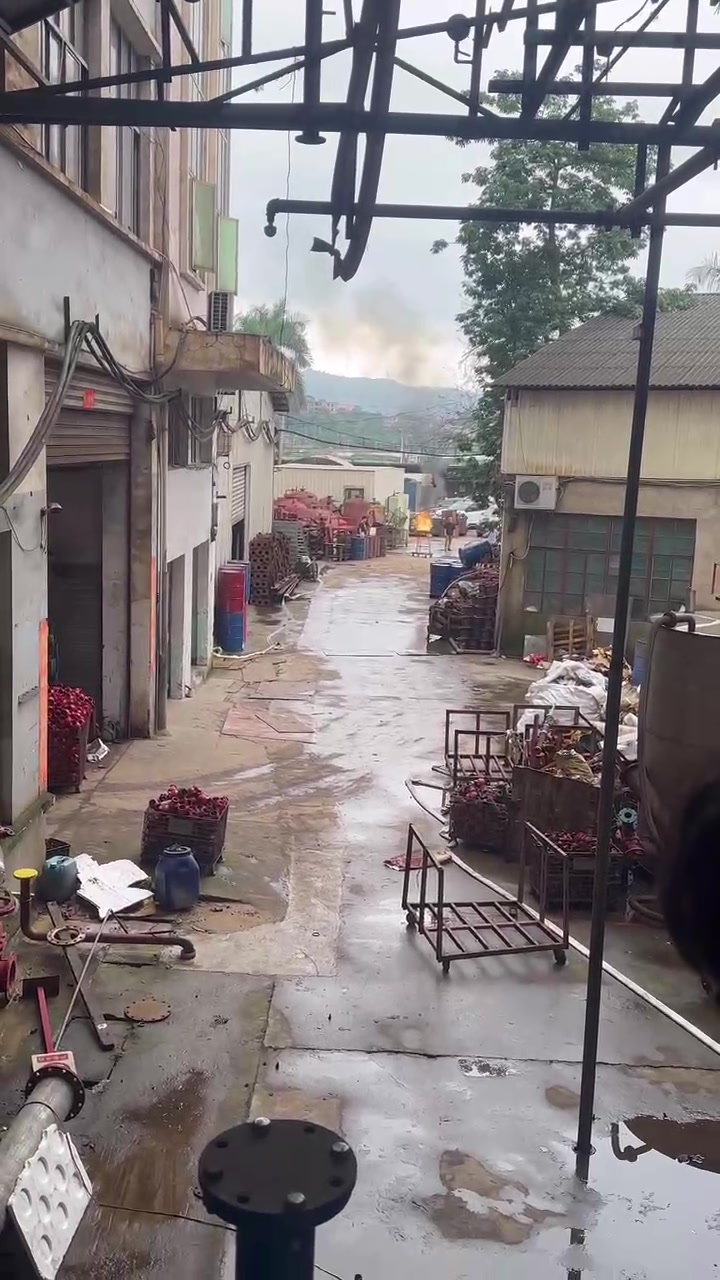fire: (415, 511, 431, 530)
